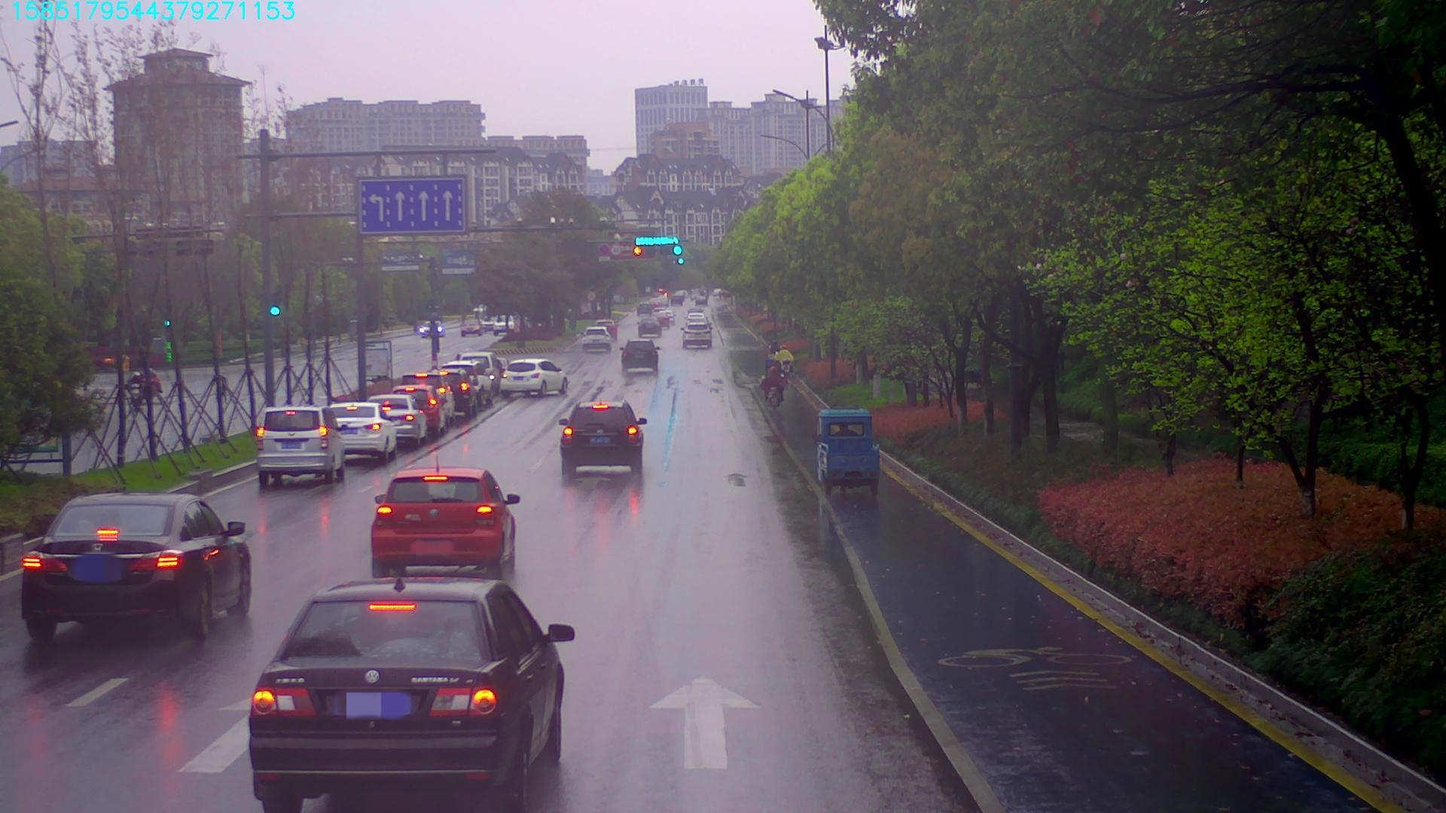red: (651, 245, 682, 254), (630, 246, 654, 255)
wait_on: (634, 235, 676, 244)
